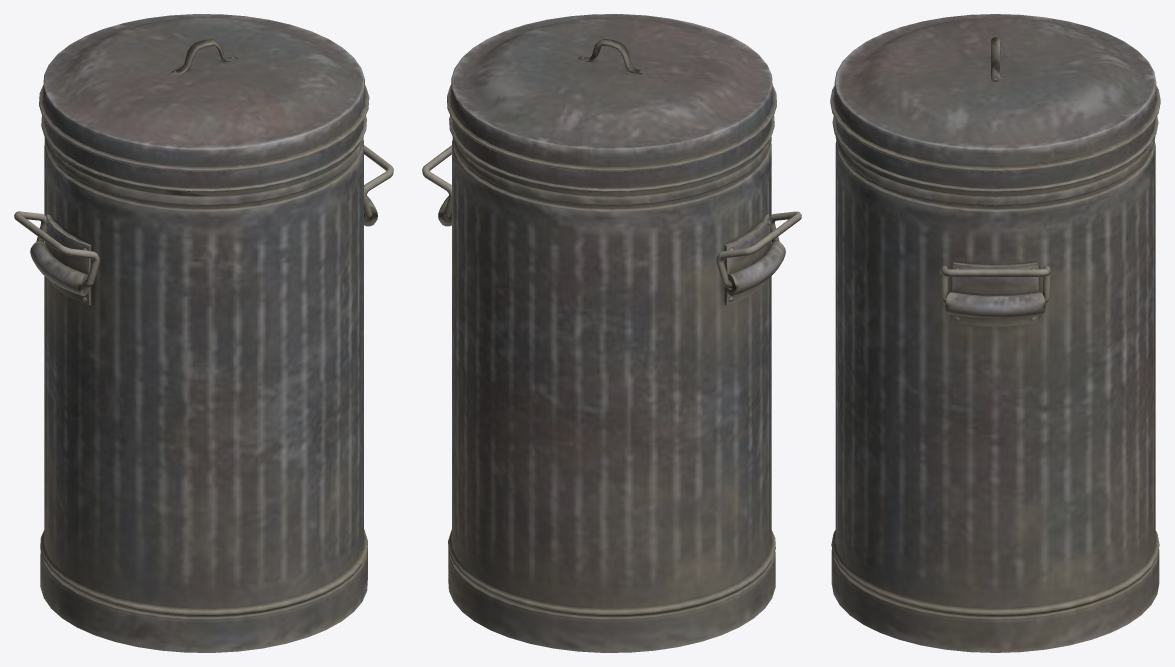
Rendered from metal_trash_can.glb.
3 renders of one model, left to right at view 1: azimuth 30°, elevation 25°; view 2: azimuth 150°, elevation 25°; view 3: azimuth 270°, elevation 25°, orthographic.
Visible parts, largest first — view 1: metal_trash_can, metal_trash_can_lid, metal_trash_can_handle_left, metal_trash_can_handle_right; view 2: metal_trash_can, metal_trash_can_lid, metal_trash_can_handle_left, metal_trash_can_handle_right; view 3: metal_trash_can, metal_trash_can_lid, metal_trash_can_handle_right.
Part boxes in pixels (bbox=[...]): metal_trash_can: bbox=[30, 116, 377, 652]; metal_trash_can_lid: bbox=[39, 14, 369, 171]; metal_trash_can_handle_left: bbox=[14, 211, 99, 288]; metal_trash_can_handle_right: bbox=[364, 145, 393, 219]; metal_trash_can: bbox=[438, 115, 785, 652]; metal_trash_can_lid: bbox=[447, 14, 776, 171]; metal_trash_can_handle_left: bbox=[716, 211, 801, 288]; metal_trash_can_handle_right: bbox=[422, 145, 451, 219]; metal_trash_can: bbox=[831, 116, 1159, 652]; metal_trash_can_lid: bbox=[830, 14, 1160, 172]; metal_trash_can_handle_right: bbox=[940, 266, 1050, 303].
Size of the model in its own units: 0.651 by 1.01 by 0.5563.
1 material, 1 textured.
